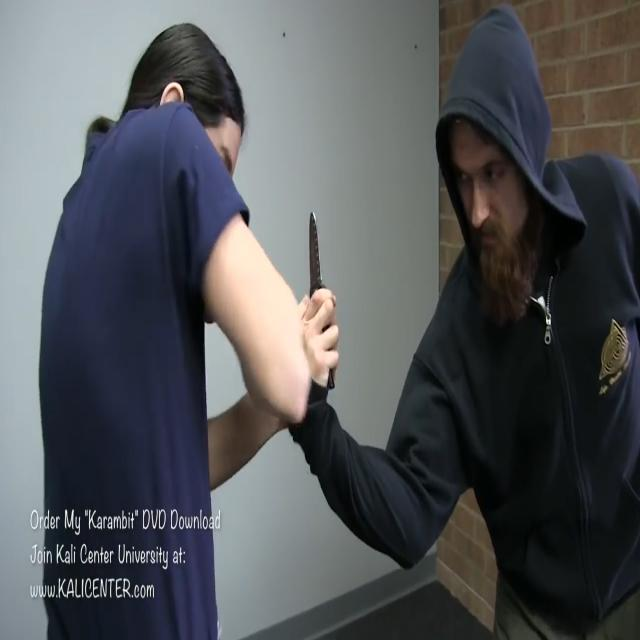knife: (308, 208, 336, 399)
